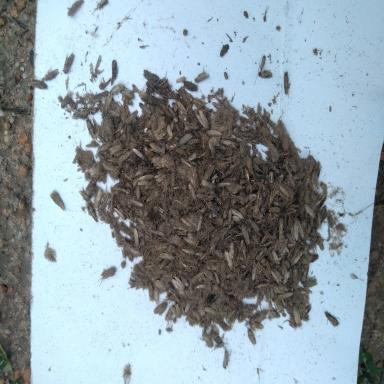pbw: (196, 108, 211, 128), (248, 308, 266, 324), (175, 134, 193, 150), (266, 140, 279, 160), (50, 192, 64, 210), (62, 53, 74, 74), (178, 88, 192, 104), (110, 80, 124, 96), (325, 311, 339, 327), (294, 218, 304, 240), (98, 208, 112, 223), (103, 93, 114, 112), (175, 99, 188, 115), (164, 306, 177, 322), (61, 90, 73, 107), (273, 173, 284, 191), (202, 162, 213, 180), (154, 206, 168, 220), (284, 157, 297, 172), (194, 72, 210, 84), (300, 263, 310, 282), (88, 203, 98, 222), (241, 225, 250, 246), (147, 283, 156, 304), (154, 279, 168, 292), (113, 206, 126, 220), (125, 110, 138, 124), (210, 329, 222, 344), (223, 251, 233, 269), (304, 202, 315, 218), (93, 189, 103, 206), (90, 91, 107, 101), (45, 68, 58, 81), (223, 164, 236, 177), (118, 222, 131, 235), (130, 272, 144, 284), (144, 69, 156, 83), (160, 156, 174, 168), (202, 332, 213, 347), (294, 304, 302, 324), (220, 138, 236, 148), (86, 119, 94, 139), (246, 328, 256, 344), (253, 196, 263, 212), (154, 302, 167, 314), (283, 72, 289, 98), (249, 218, 260, 232), (120, 87, 134, 98), (287, 228, 296, 245), (100, 193, 109, 210), (207, 140, 215, 158), (311, 172, 319, 190), (316, 233, 324, 251), (188, 182, 196, 200), (161, 103, 171, 117), (172, 277, 182, 291), (132, 172, 142, 186), (200, 179, 214, 189), (192, 97, 206, 107), (115, 229, 123, 246), (109, 144, 124, 153), (223, 201, 230, 220), (252, 162, 264, 173), (149, 154, 160, 166), (291, 252, 302, 264), (119, 152, 131, 163), (111, 59, 117, 81), (219, 44, 230, 56), (303, 277, 316, 287), (190, 272, 203, 282), (169, 107, 177, 123), (206, 129, 222, 137), (282, 132, 290, 148), (286, 174, 295, 188), (183, 81, 197, 90), (250, 262, 257, 280), (182, 216, 192, 228), (130, 247, 142, 257), (178, 158, 190, 168), (170, 306, 180, 318), (182, 261, 192, 273), (181, 274, 190, 287), (270, 248, 279, 261), (270, 270, 278, 284), (252, 156, 266, 164), (281, 270, 289, 284), (196, 215, 203, 231), (102, 160, 113, 170), (213, 248, 224, 258), (154, 172, 165, 182), (232, 208, 243, 218), (78, 190, 89, 200), (90, 165, 100, 176), (99, 79, 110, 89), (149, 142, 161, 151), (151, 129, 160, 141), (268, 171, 274, 189), (133, 228, 139, 246), (157, 115, 166, 127), (203, 268, 212, 280), (247, 159, 254, 174), (150, 229, 165, 236), (283, 207, 296, 215), (204, 306, 217, 314), (181, 246, 194, 254), (257, 179, 265, 192), (240, 141, 246, 158), (192, 310, 202, 320), (133, 148, 143, 158), (139, 103, 149, 113), (160, 253, 174, 260), (158, 258, 166, 270), (240, 241, 246, 257), (212, 101, 224, 109), (183, 124, 199, 130), (35, 82, 47, 90), (268, 206, 280, 214), (244, 166, 250, 182), (72, 110, 88, 116), (278, 219, 283, 238), (94, 118, 99, 137), (109, 193, 114, 212), (255, 282, 268, 289), (260, 55, 266, 70), (280, 188, 290, 197), (156, 77, 166, 86), (316, 212, 322, 227), (214, 197, 223, 207), (154, 285, 159, 303), (255, 293, 263, 304), (108, 110, 119, 118), (293, 172, 304, 180), (174, 304, 182, 315), (271, 307, 279, 318), (223, 352, 228, 369), (213, 271, 220, 283), (134, 184, 140, 198), (140, 173, 152, 180), (228, 242, 234, 256), (139, 91, 148, 100), (123, 96, 132, 105), (167, 123, 172, 139), (183, 236, 193, 244), (130, 279, 138, 289), (115, 186, 125, 194), (132, 202, 145, 208), (217, 181, 230, 187), (239, 116, 248, 124), (204, 277, 212, 286), (281, 292, 293, 298), (88, 107, 99, 113), (184, 303, 192, 311), (267, 310, 276, 317), (270, 288, 275, 300), (263, 240, 273, 246), (186, 232, 193, 240), (248, 194, 256, 201), (189, 154, 197, 161), (260, 235, 266, 244), (132, 84, 138, 92), (176, 76, 185, 81), (306, 304, 311, 312), (268, 291, 271, 300)
